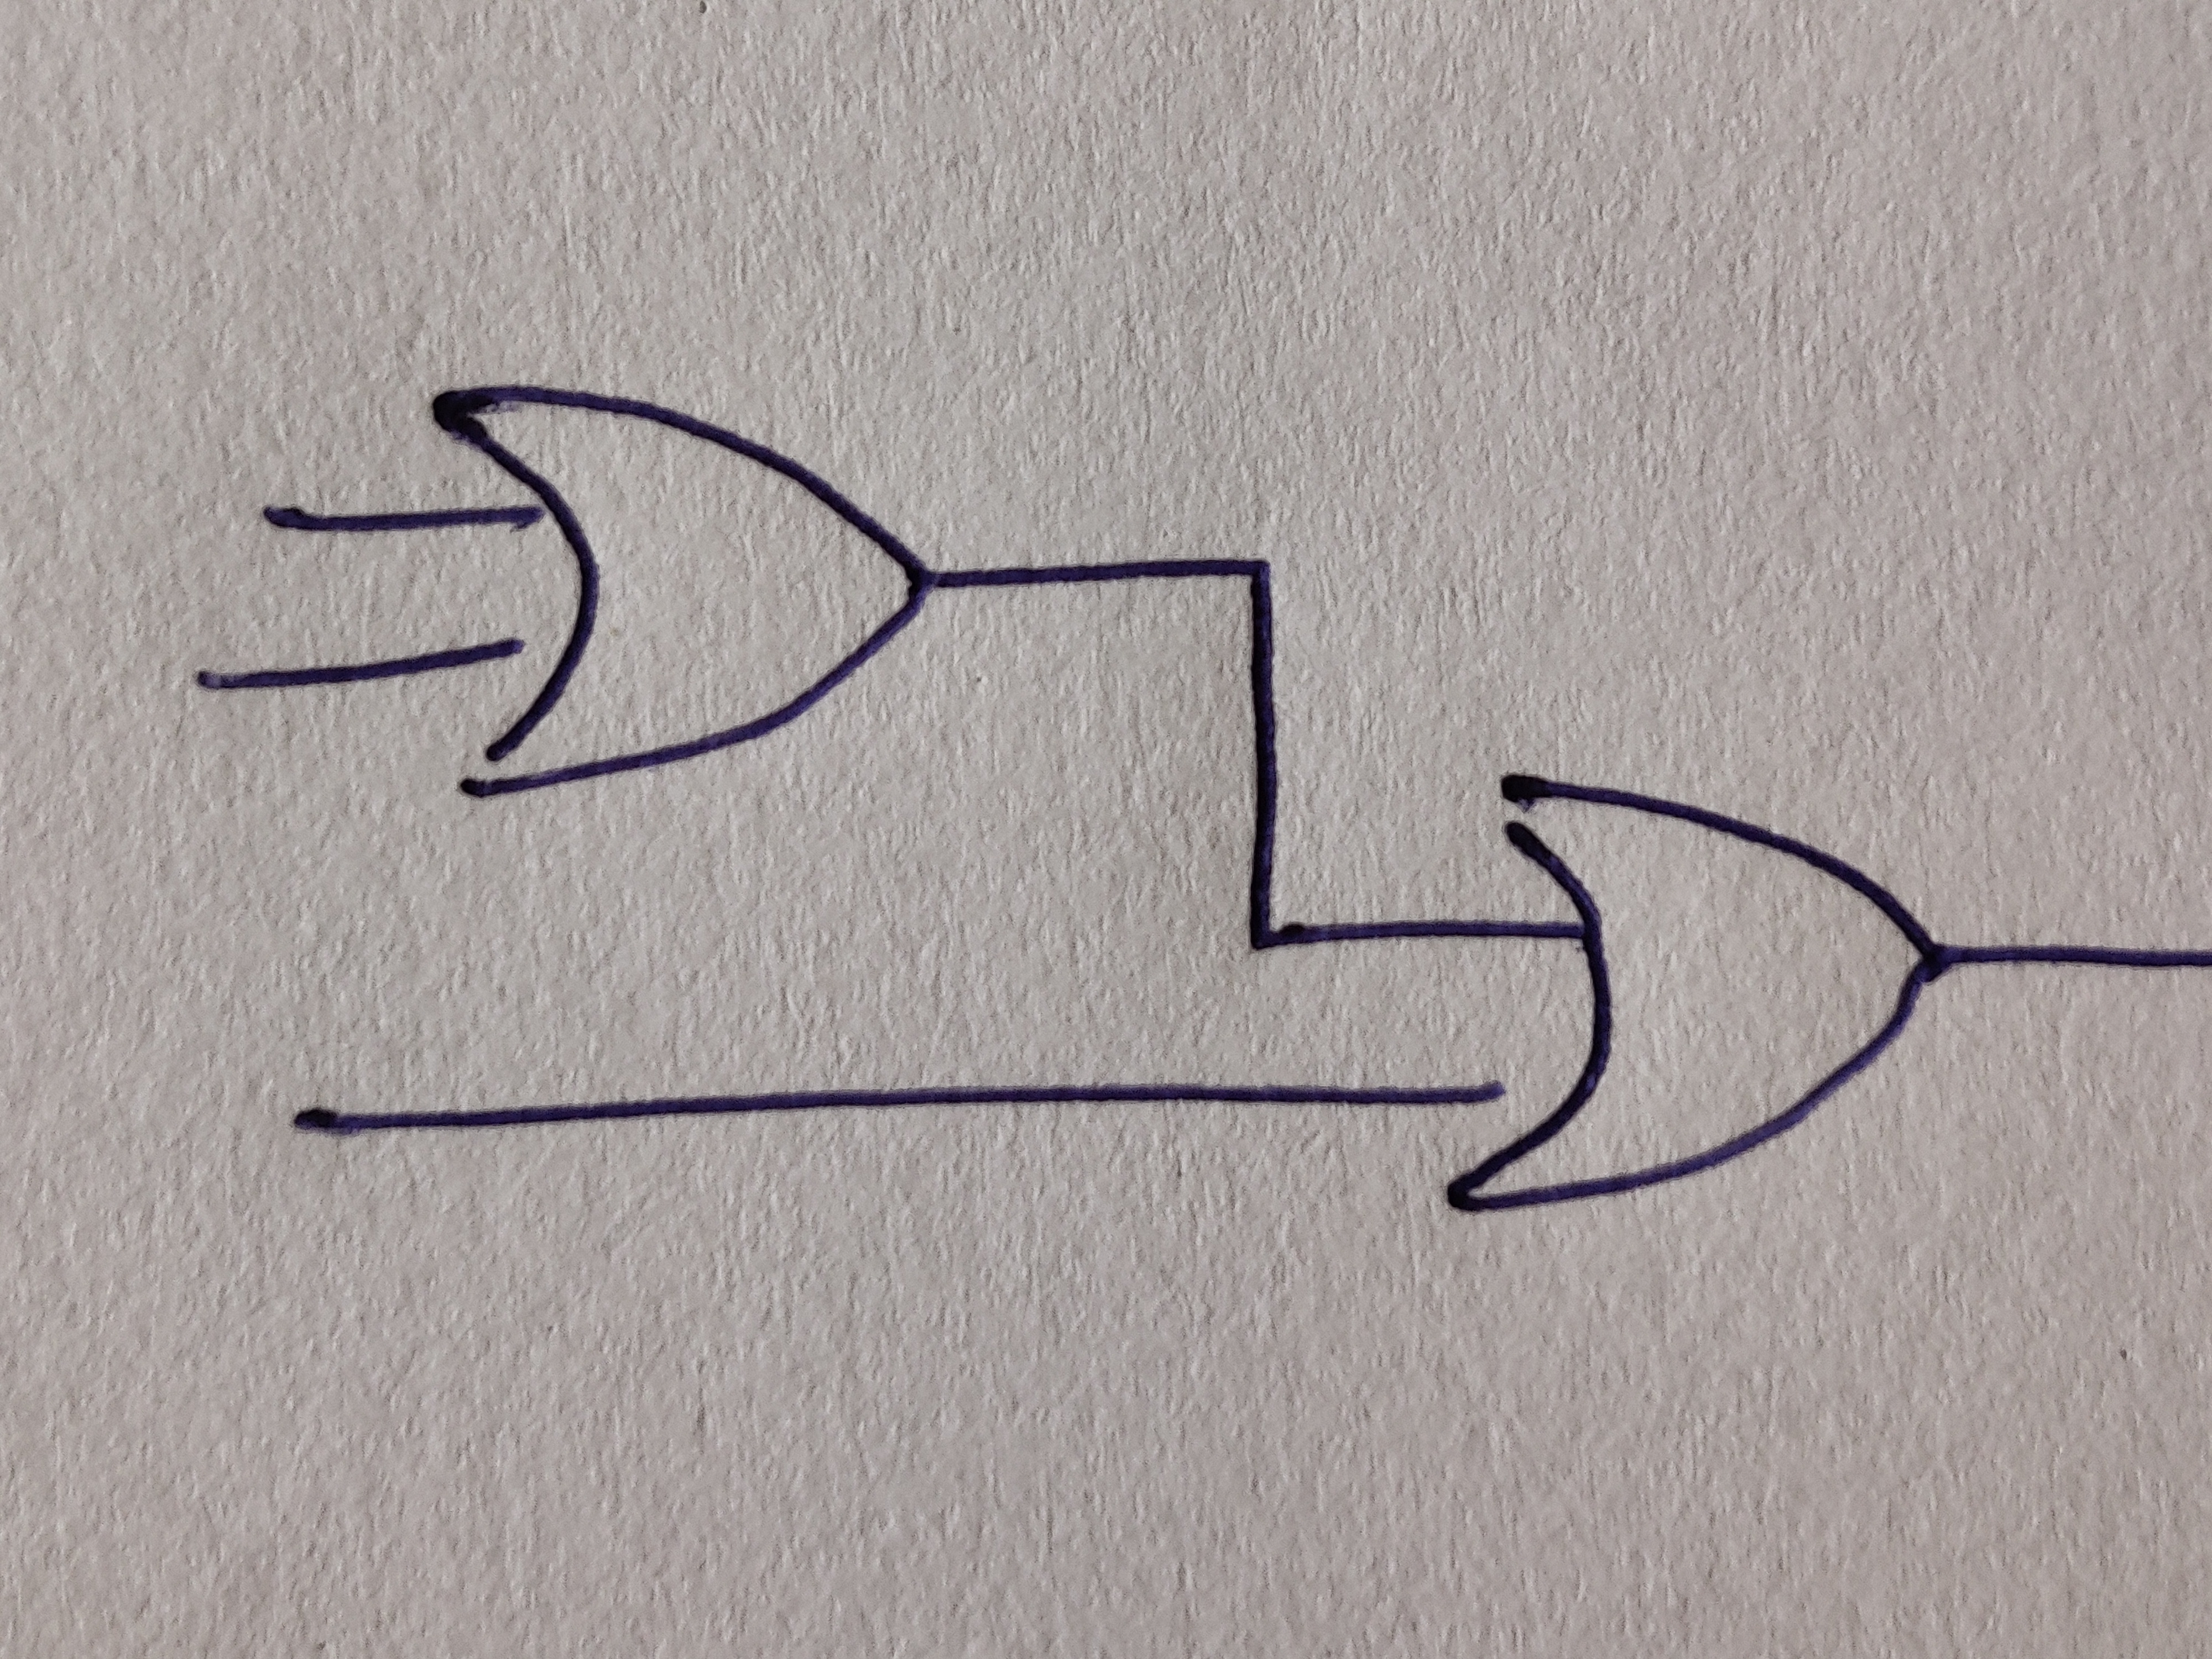or: (1449, 774, 1939, 1213), (432, 385, 928, 798)
